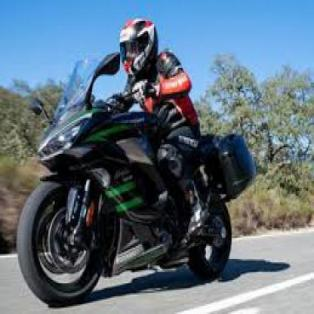Motocicleta: (14, 94, 240, 302)
